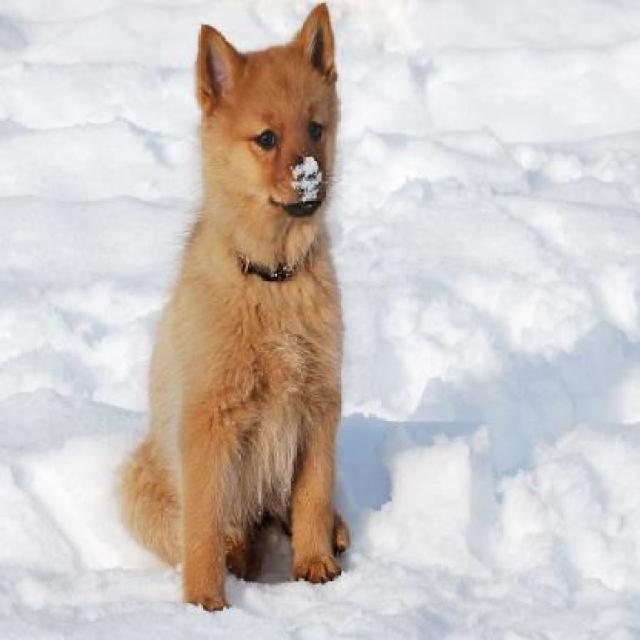animals: (121, 0, 354, 640)
